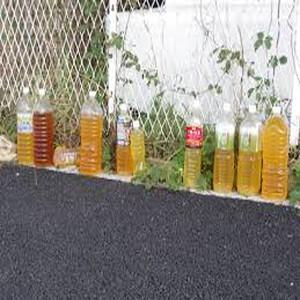Plastic: (262, 105, 292, 199), (208, 103, 238, 194), (238, 105, 263, 196), (77, 90, 103, 175), (33, 86, 56, 164), (183, 105, 205, 184), (14, 88, 34, 164), (113, 103, 132, 179), (130, 120, 145, 179)
